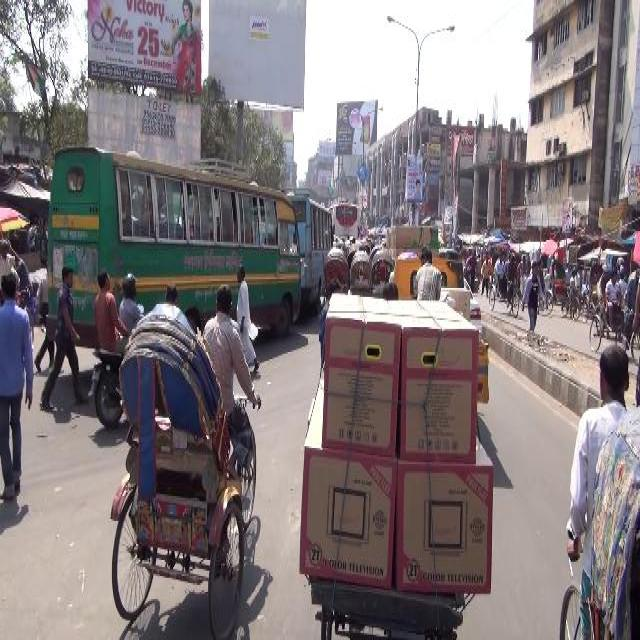bus: (44, 139, 302, 352), (284, 181, 332, 320), (327, 201, 363, 240)
motorbike: (86, 345, 124, 430)
rickshaw: (102, 282, 268, 639), (589, 265, 639, 357), (486, 246, 520, 319), (544, 259, 580, 321), (318, 244, 350, 306), (348, 250, 372, 300), (372, 247, 394, 297)
wheelbarrow: (298, 571, 470, 638)
